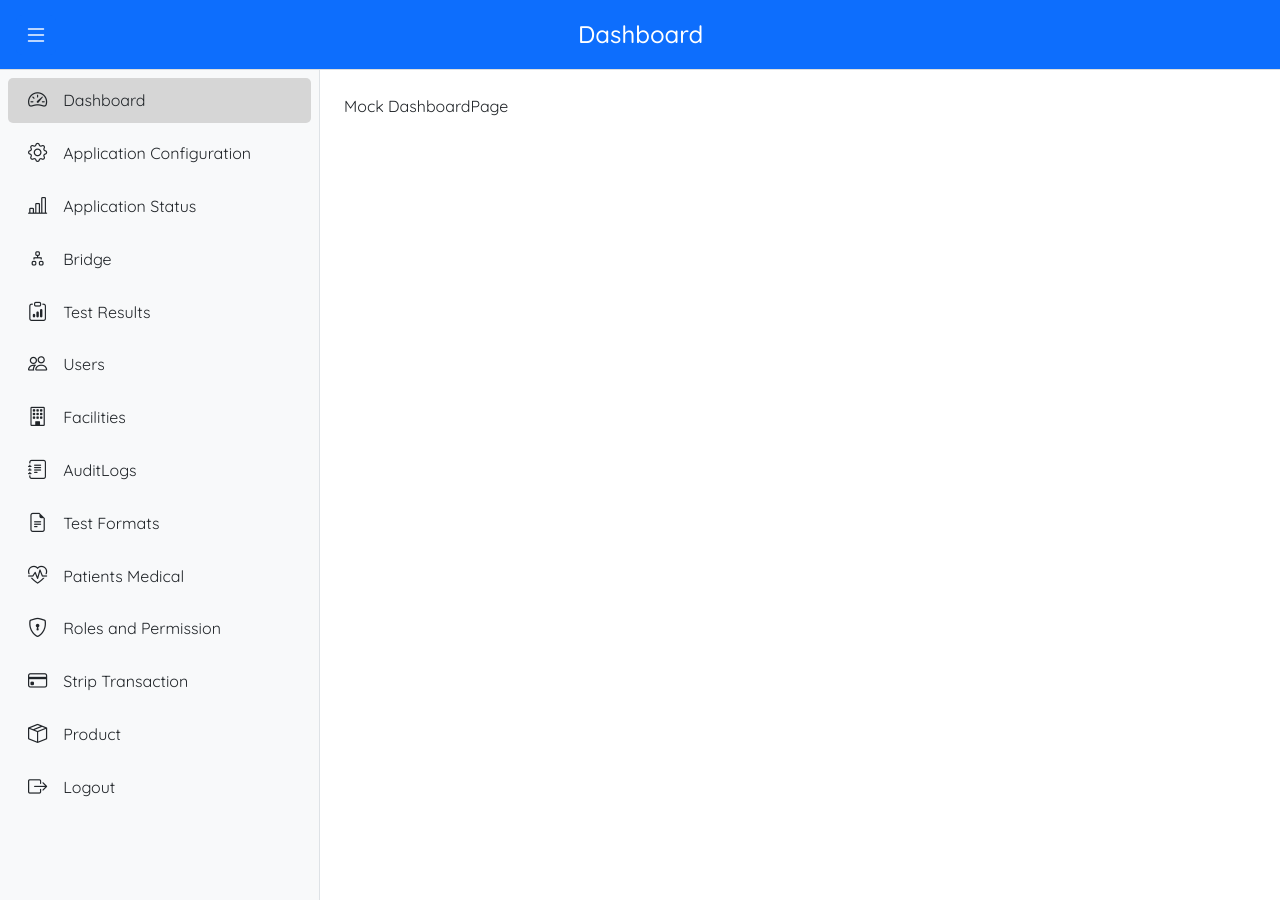
Test: DashboardLayout › Navigation › renders Bridge page when nav item is clicked
Click the button with test id "nav-bridge" at (70, 259), box [28,244,112,273]
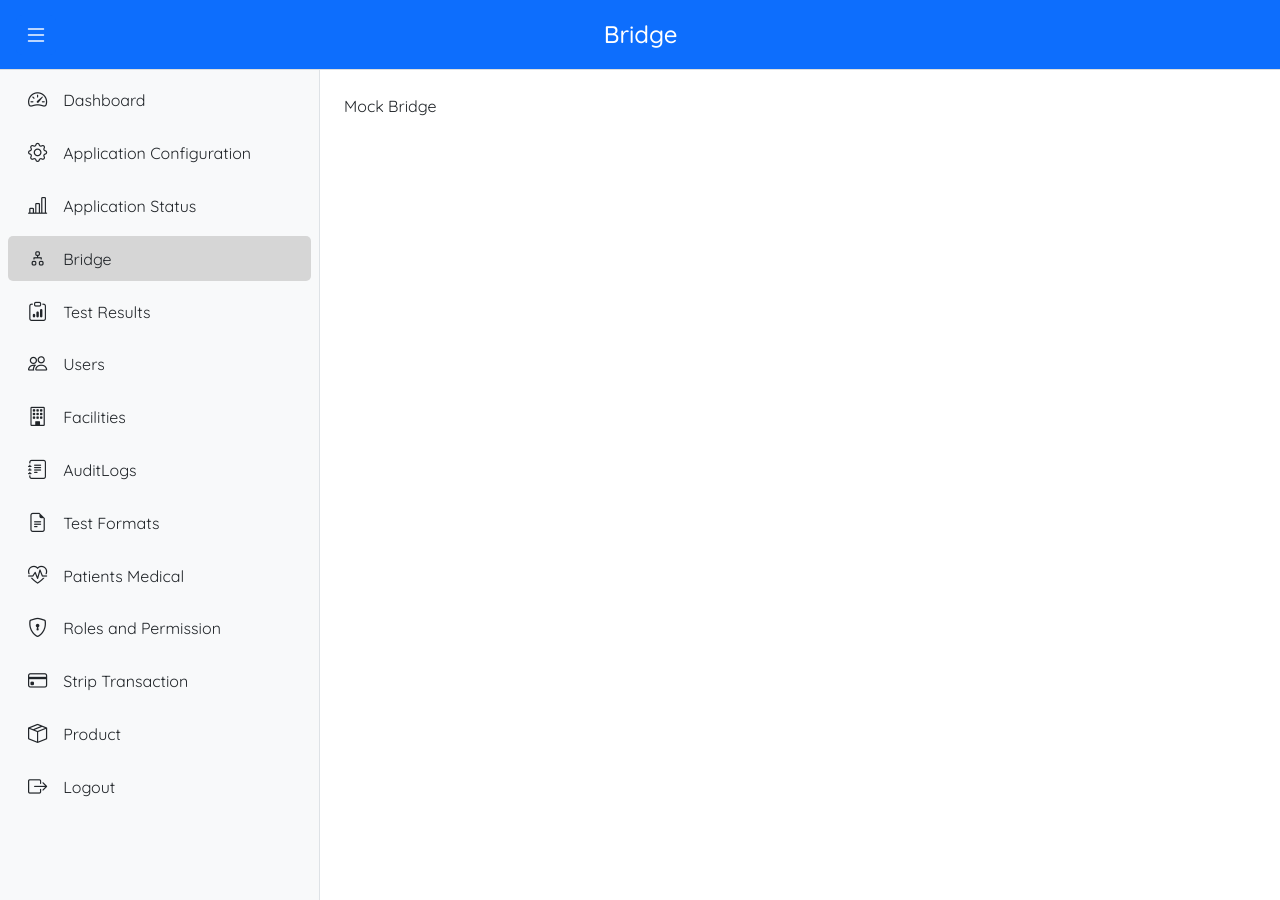
Expected: the text "Mock Bridge" is shown, [344,96,436,116]
